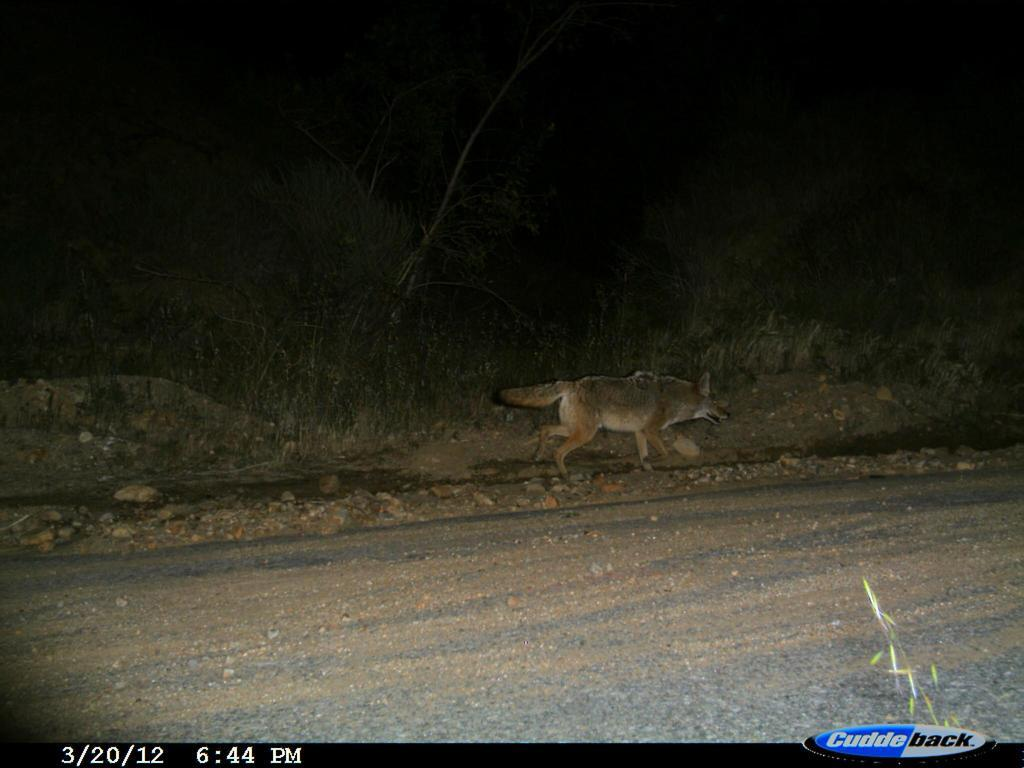coyote: (492, 358, 748, 483)
